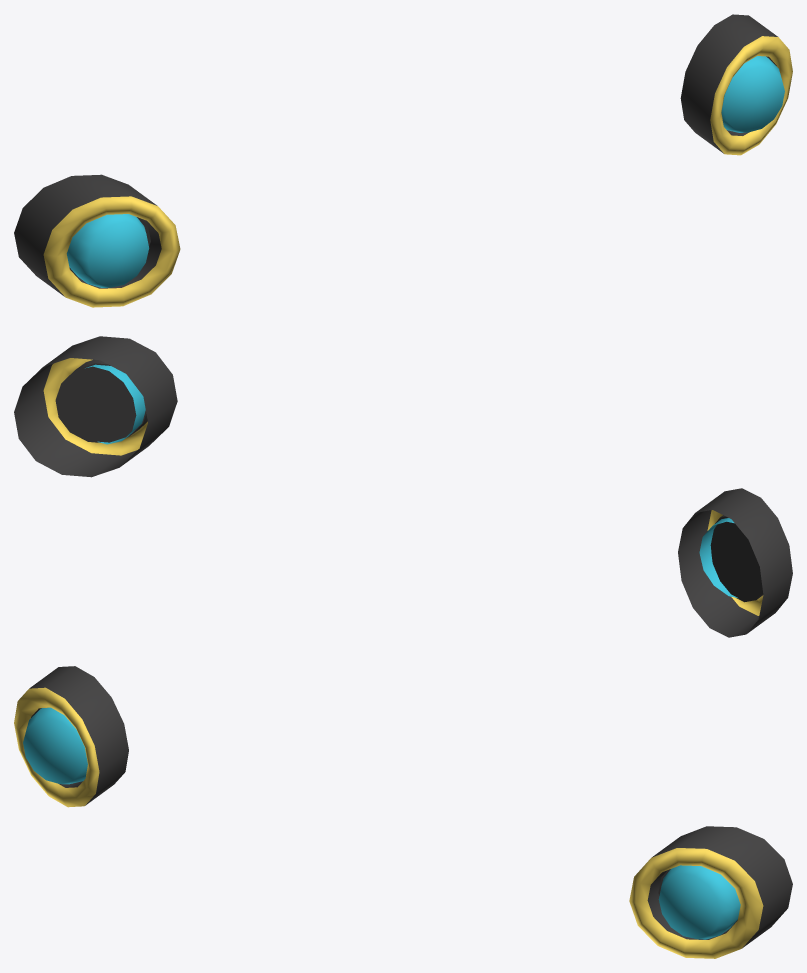
The model's file is Car_05_Headlight_Simple.fbx.
3 views of the same model, one above another, from view 1: azimuth 30°, elevation 25°; view 2: azimuth 150°, elevation 25°; view 3: azimuth 330°, elevation 25° (orthographic).
Visible parts, largest first — view 1: Car_05_Headlight_Simple; view 2: Car_05_Headlight_Simple; view 3: Car_05_Headlight_Simple.
Boxes of the visible parts, x1,y1,x2,y2 form: Car_05_Headlight_Simple: (14,14,792,307); Car_05_Headlight_Simple: (14,336,792,637); Car_05_Headlight_Simple: (14,666,792,958).
Size of the model in its own units: 151 by 19.66 by 22.02.
